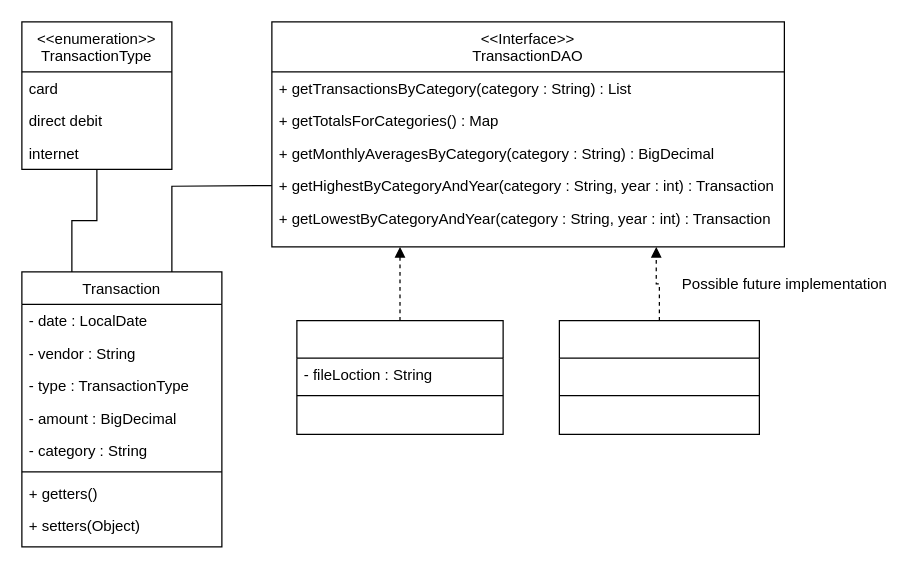
This 919x569 diagram has some shape labels left out. The box of each missing label's shape, as (x1, y1, x2, y2) in pixels:
FileTransactionDAO: (296, 319, 503, 434)
SQLTransactionDAO: (558, 319, 759, 434)
